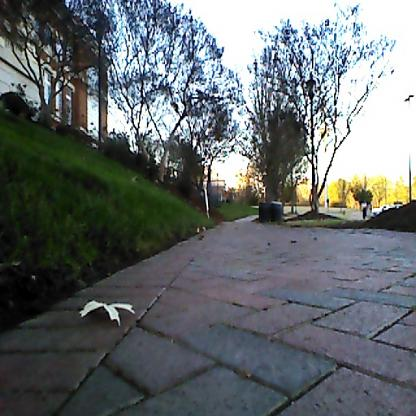Edge: (1, 216, 220, 351)
Sidewalk: (0, 216, 416, 416)
